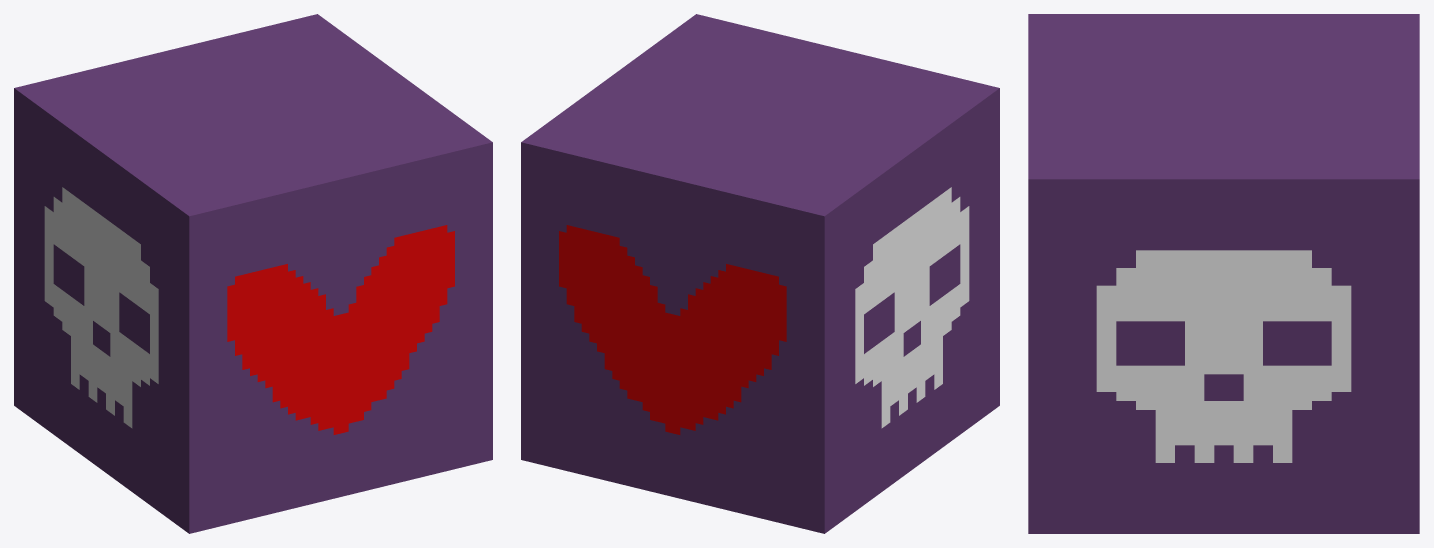
File: trapBox.fbx
3 views of the same model, side by side, from view 1: azimuth 30°, elevation 25°; view 2: azimuth 150°, elevation 25°; view 3: azimuth 270°, elevation 25° (orthographic). The views are drawn at different scales.
Visible parts, largest first — view 1: Untitled; view 2: Untitled; view 3: Untitled.
Boxes of the visible parts, bbox=[...] form: Untitled: bbox=[14, 14, 492, 533]; Untitled: bbox=[521, 14, 999, 533]; Untitled: bbox=[1028, 14, 1419, 533].
Bounding box in the file's own units: 4 × 4 × 4.
Materials: 1 (1 with a texture image).
